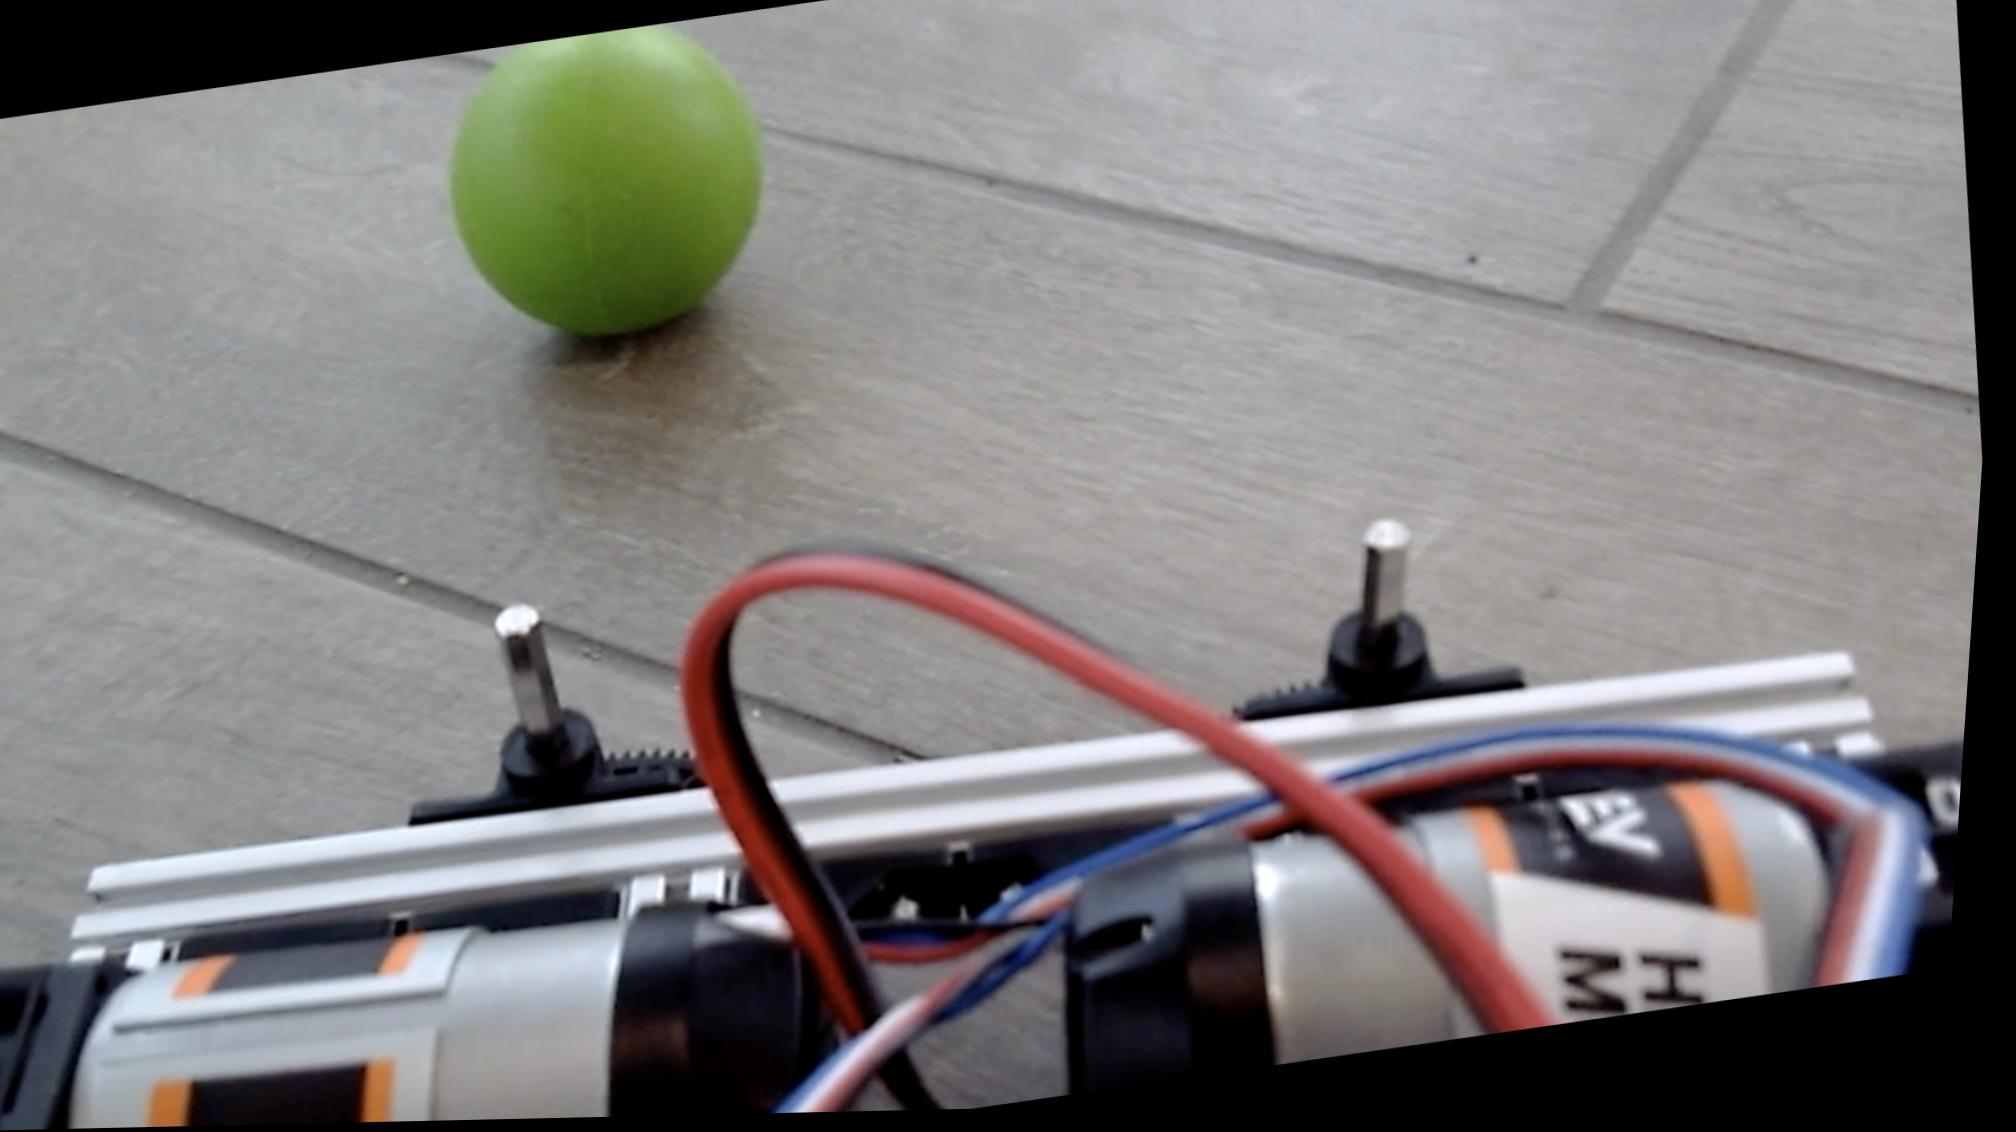greenball: (422, 12, 795, 364)
